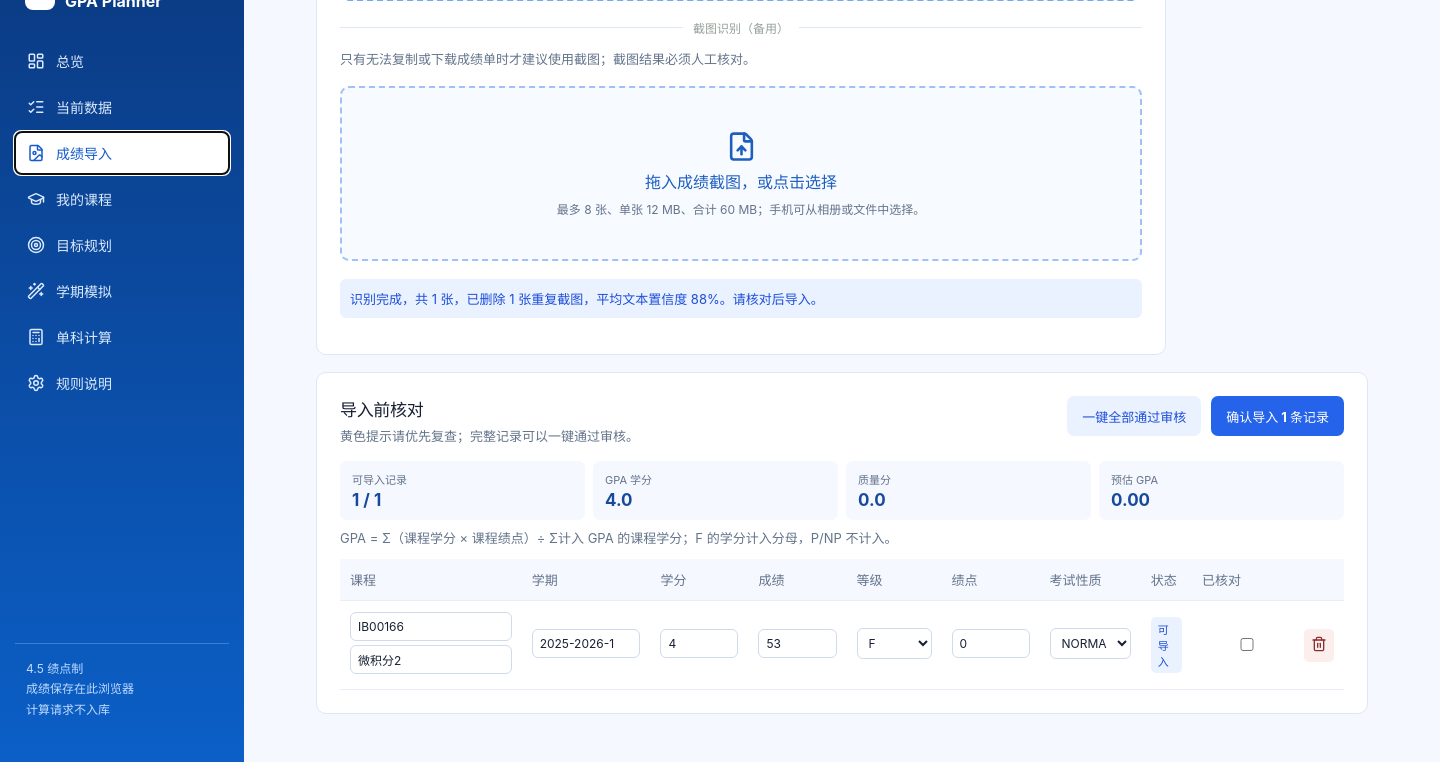
grade screenshot import flow › drops duplicate screenshots, approves complete rows once, and imports the course
This screenshot has width=1440, height=762.
Earlier steps of the test are not shown.
(page scrolled)
Expected: the text "识别完成，共 1 张，已删除 1 张重复截图，平均文本置信度 88%。请核对后导入。" is shown, x1=340 y1=279 x2=1142 y2=318
Click the button "一键全部通过审核" at (1134, 416), box x1=1067 y1=396 x2=1201 y2=436
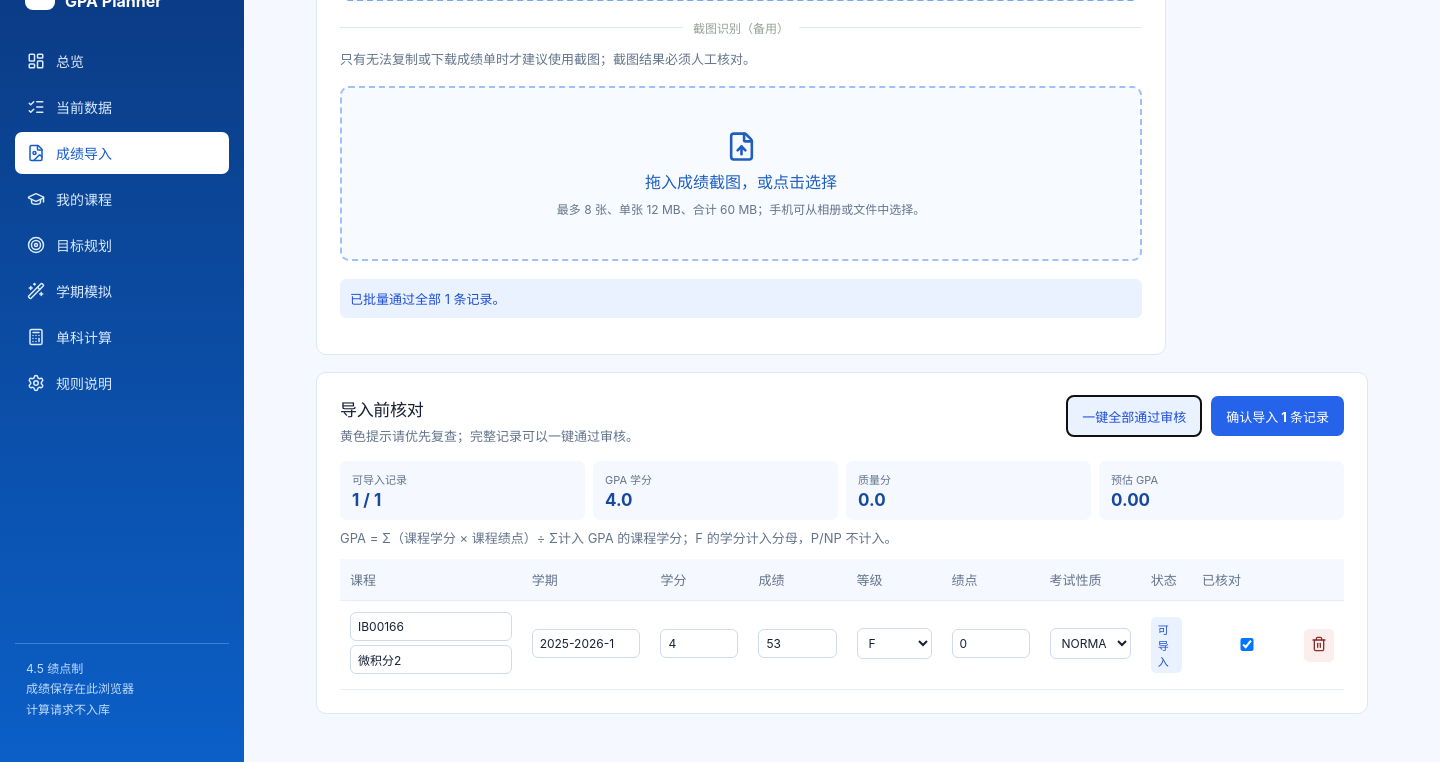
Click the button "确认导入 1 条记录" at (1278, 416), box x1=1211 y1=396 x2=1344 y2=436
(page scrolled)
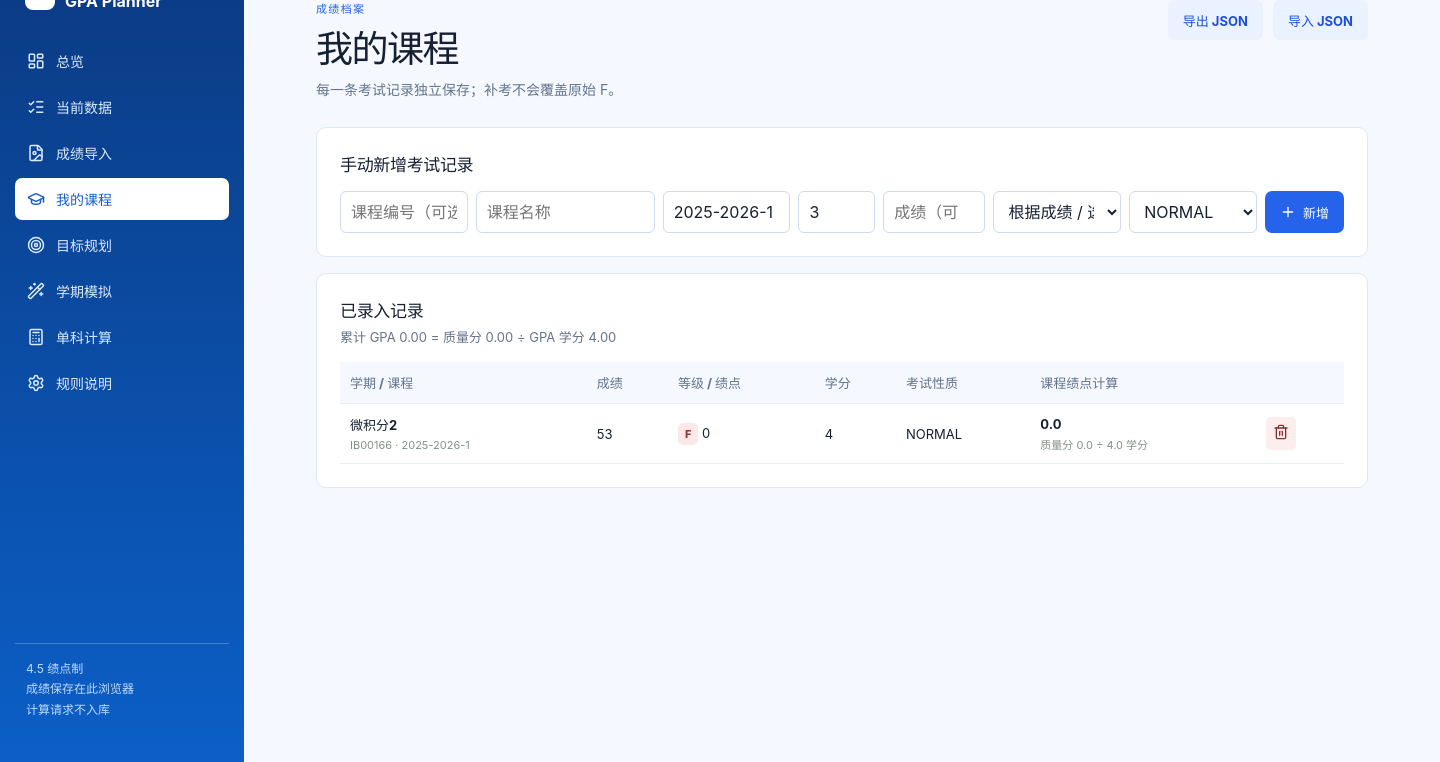
Result: the heading "我的课程" is shown at x1=316 y1=26 x2=458 y2=71
Result: the text "微积分2" is shown at x1=350 y1=417 x2=397 y2=433
